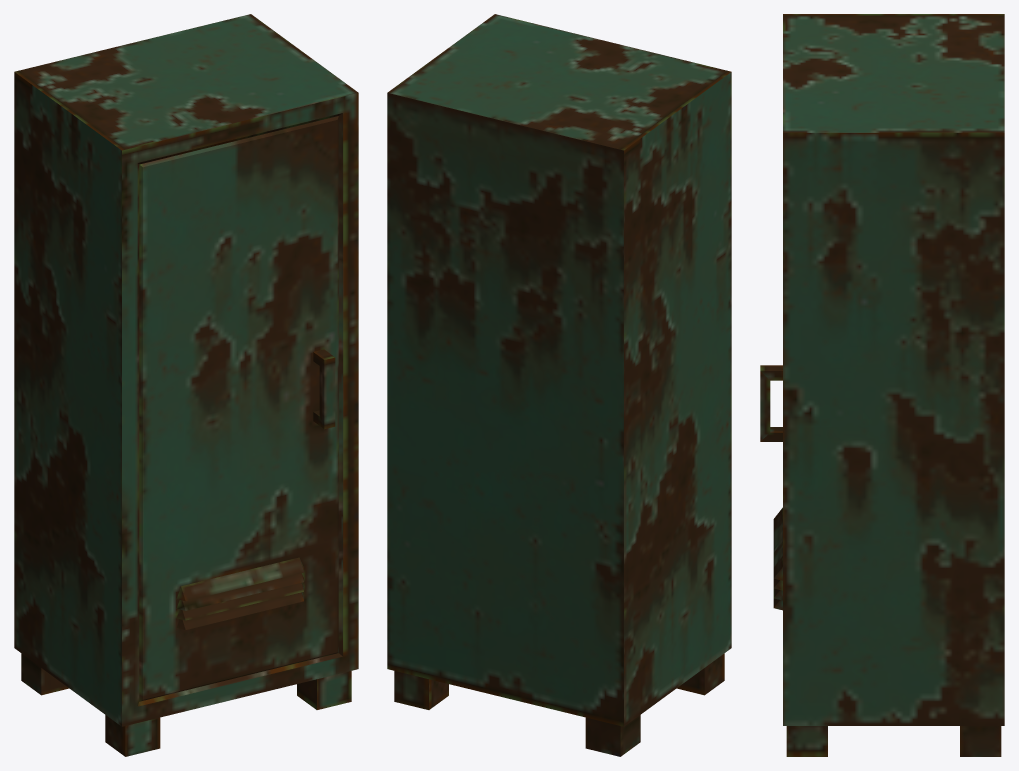
The model's file is Cabinet.fbx.
3 views of the same model, side by side, from view 1: azimuth 30°, elevation 25°; view 2: azimuth 150°, elevation 25°; view 3: azimuth 270°, elevation 25° (orthographic). The views are drawn at different scales.
Parts seen in each view (by area): view 1: Cabinet; view 2: Cabinet; view 3: Cabinet.
Part boxes in pixels (x1,y1,x2,y2): Cabinet: [14, 14, 358, 756]; Cabinet: [387, 14, 731, 756]; Cabinet: [760, 14, 1004, 756].
Size of the model in its own units: 77.93 by 191 by 67.71.
Materials: 1 (1 with a texture image).
